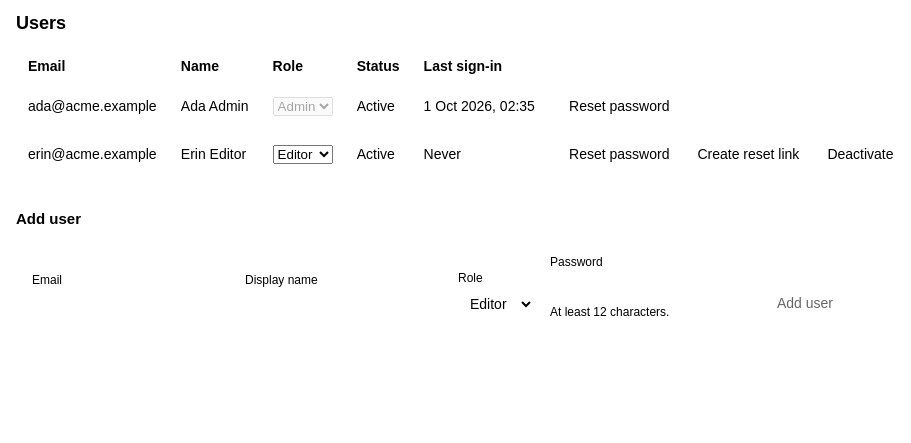
Test: UsersPage Reset password (QA S8) › has a visible label and the rule, not a bare box
expect the text "Erin Editor" is shown: met, box [169,130,261,178]
Click the button "Reset password" in the row of "erin@acme.example".
click(619, 154)  # box [559,138,679,170]
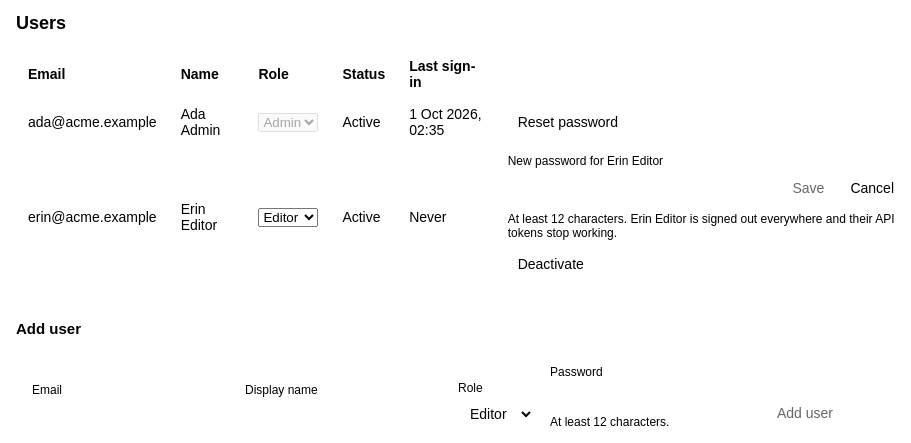
expect the text "signed out everywhere" is shown: met, box [508,212,895,240]
